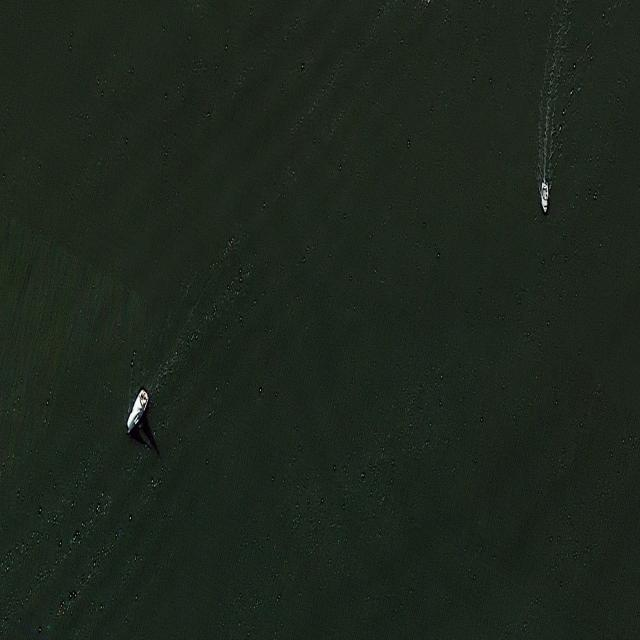ship: (126, 386, 149, 436), (541, 180, 549, 214)
